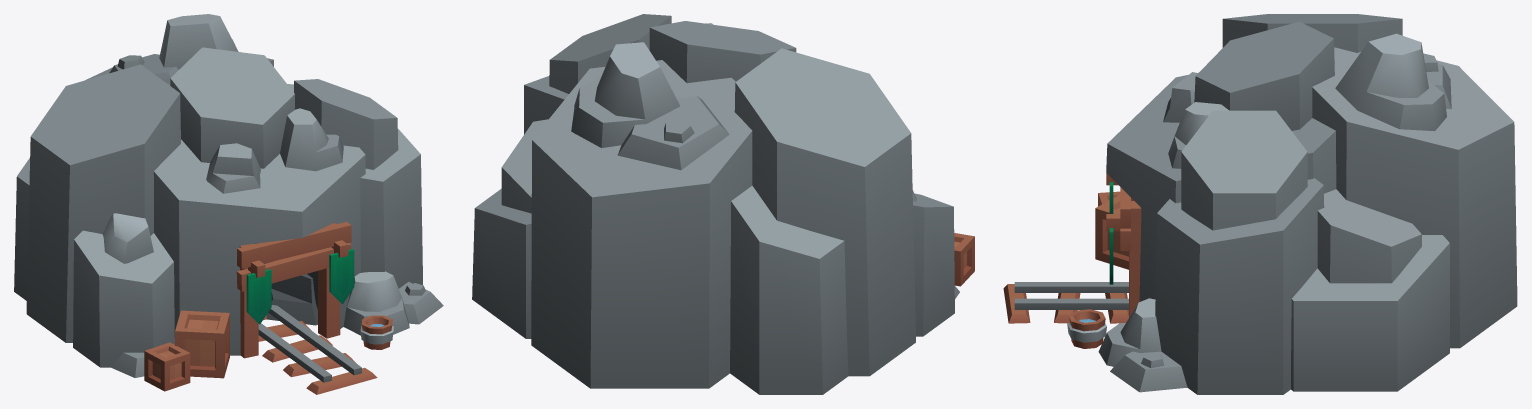
The model's file is building_mine_green.gltf.
The picture shows the model from 3 angles, left to right: view 1: azimuth 30°, elevation 25°; view 2: azimuth 150°, elevation 25°; view 3: azimuth 270°, elevation 25°; orthographic projection. The views are drawn at different scales.
Visible parts, largest first — view 1: building_mine_green; view 2: building_mine_green; view 3: building_mine_green.
Part boxes in pixels (left/top/right/bottom): building_mine_green: left=14, top=14, right=443, bottom=394; building_mine_green: left=472, top=14, right=974, bottom=394; building_mine_green: left=1003, top=14, right=1517, bottom=394.
Bounding box in the file's own units: 1.61 × 1.14 × 1.92.
Materials: 1 (1 with a texture image).
